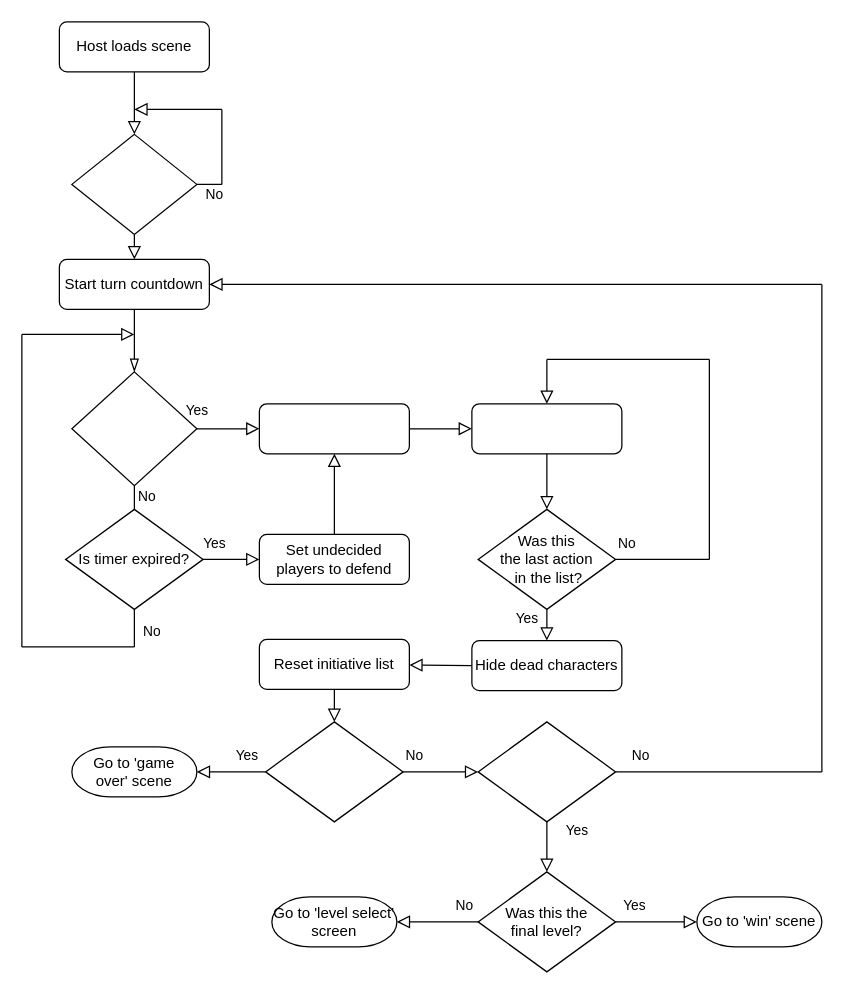
This 845x994 diagram has some shape labels left out. Here are the shapes that lost their labels. From the top down, the centre of each, then its label:
the point at 134,183: All clients connected?
the point at 134,428: Have all players selected an action?
the point at 333,428: Generate Enemy actions
the point at 546,428: Execute next action in initiative list
the point at 333,771: Are all players defeated?
the point at 546,771: Are all enemies defeated?
